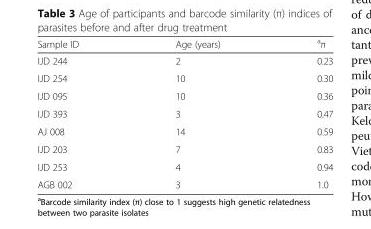table: (36, 36, 332, 189)
table column: (126, 36, 267, 189), (36, 36, 126, 189), (267, 36, 332, 189)
table column header: (36, 36, 332, 52)
table row: (36, 86, 332, 104), (36, 104, 332, 122), (36, 139, 332, 157), (36, 157, 332, 175), (36, 52, 332, 69), (36, 69, 332, 86), (36, 122, 332, 139), (36, 36, 332, 52), (36, 175, 332, 189)
